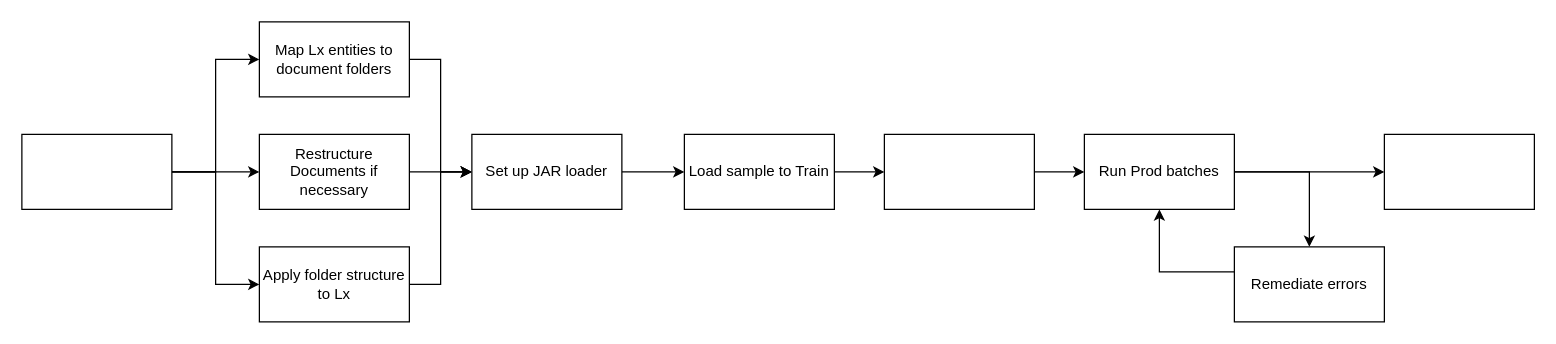
This 1556x344 diagram has some shape labels left out. The shapes that lost their labels are listed below. From the top down, each one's box as (x1, y1, x2, y2) in pixels, then its label:
(21, 133, 172, 209): Extract from client ERP
(883, 133, 1034, 209): Client validates
(1383, 133, 1534, 209): Run final QC
